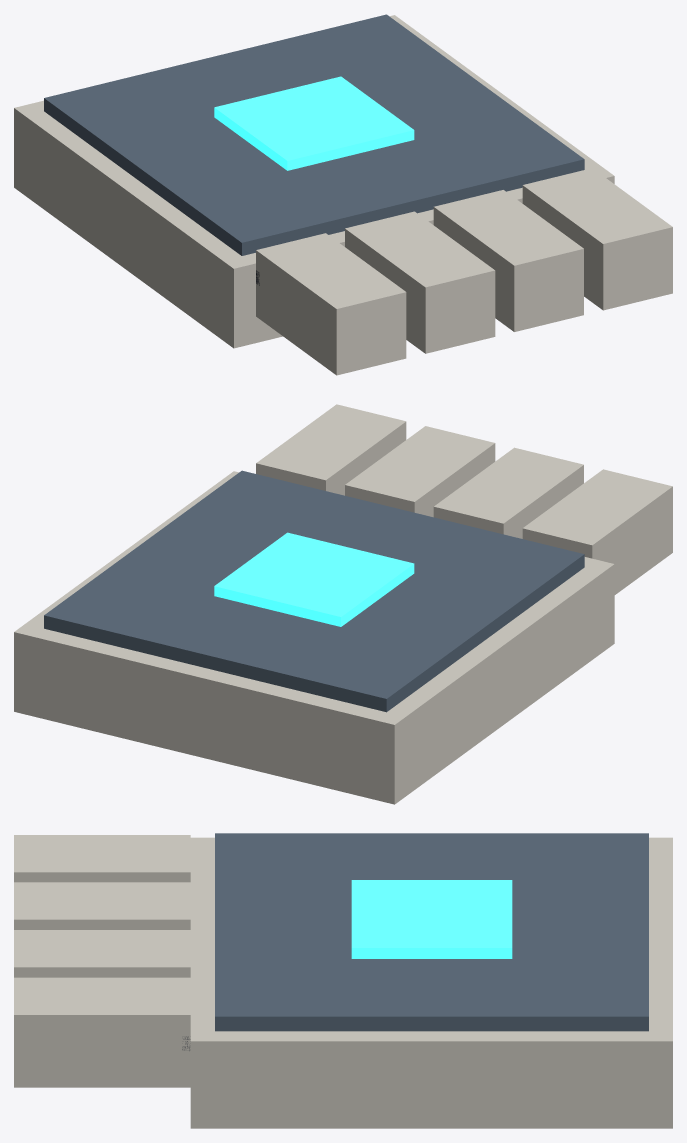
The model's file is robot_hand_palm.glb.
3 renders of one model, top to bottom at view 1: azimuth 30°, elevation 25°; view 2: azimuth 150°, elevation 25°; view 3: azimuth 270°, elevation 25°, orthographic. The views are drawn at different scales.
Visible parts, largest first — view 1: robot_hand_palm_armor, robot_hand_palm_steel, robot_hand_palm_glow; view 2: robot_hand_palm_armor, robot_hand_palm_steel, robot_hand_palm_glow; view 3: robot_hand_palm_armor, robot_hand_palm_steel, robot_hand_palm_glow.
Part boxes in pixels (x1=…): robot_hand_palm_armor: x1=14, y1=15, x2=672, y2=375; robot_hand_palm_steel: x1=44, y1=14, x2=584, y2=255; robot_hand_palm_glow: x1=214, y1=76, x2=414, y2=170; robot_hand_palm_armor: x1=14, y1=404, x2=672, y2=804; robot_hand_palm_steel: x1=44, y1=470, x2=584, y2=712; robot_hand_palm_glow: x1=214, y1=532, x2=414, y2=626; robot_hand_palm_armor: x1=14, y1=835, x2=672, y2=1128; robot_hand_palm_steel: x1=215, y1=833, x2=648, y2=1031; robot_hand_palm_glow: x1=351, y1=880, x2=512, y2=958.
Bounding box in the file's own units: 6 × 1.55 × 8.2.
